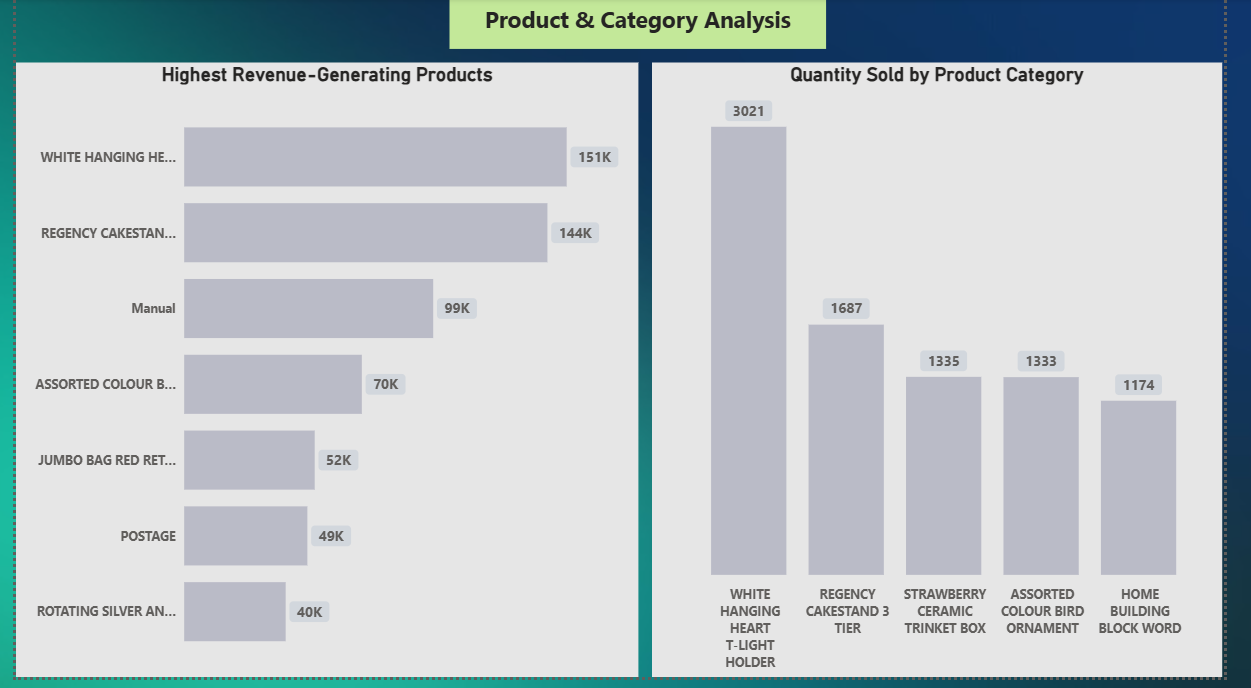

This screenshot's page, from the dashboard's own definition file:
{"tool":"powerbi","page":{"name":"Page 2","canvas":[1280,720],"ordinal":1},"visuals":[{"type":"textbox","box":[459.7,0,399.2,54.1],"z":0},{"type":"clusteredBarChart","title":"Highest Revenue-Generating Products","fields":{"Category":["retail retail_sales.Description"],"Y":["retail retail_sales.Total Revenue"]},"box":[0,68.4,660.1,652.2],"z":1000},{"type":"columnChart","title":"Quantity Sold by Product Category","fields":{"Y":["retail retail_sales.Total Orders"],"Category":["retail retail_sales.Description"]},"box":[674.7,68,604.7,652],"z":2000}]}

Visuals, with their boxes in screenshot pixels (x1, y1, x2, y2), scaled from the page's 1280x720 canvas onto the 1251x688 screenshot:
textbox: crop(449, 0, 839, 52)
"Highest Revenue-Generating Products" clusteredBarChart: crop(0, 65, 645, 687)
"Quantity Sold by Product Category" columnChart: crop(659, 65, 1250, 687)
